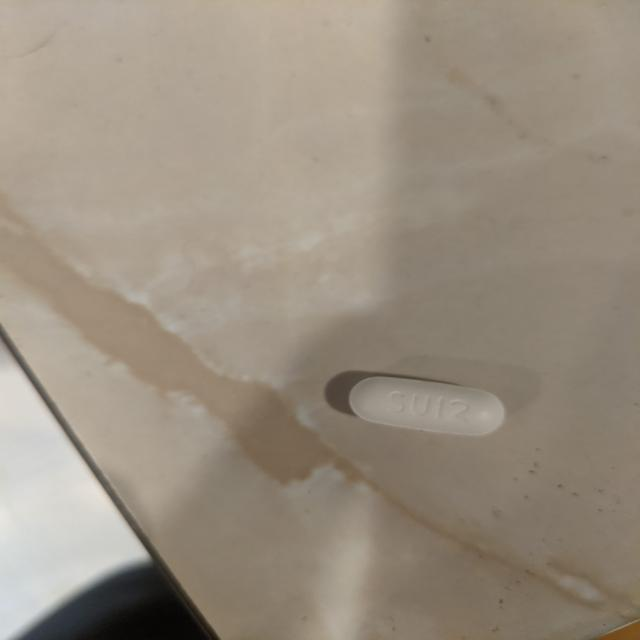non-organic waste: (347, 373, 507, 438)
